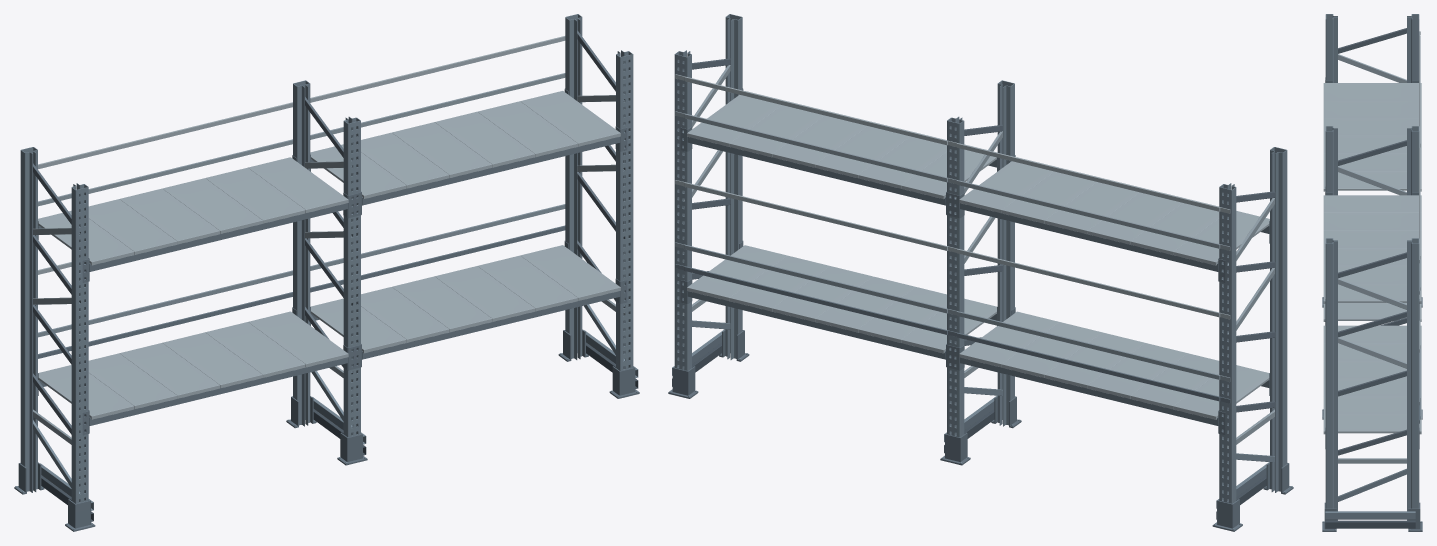
Rendered from SM_ShelfEmptyx2_White_D.fbx.
The picture shows the model from 3 angles, left to right: view 1: azimuth 30°, elevation 25°; view 2: azimuth 150°, elevation 25°; view 3: azimuth 270°, elevation 25°; orthographic projection. The views are drawn at different scales.
Parts seen in each view (by area): view 1: SM_ShelfEmptyx2_White_D; view 2: SM_ShelfEmptyx2_White_D; view 3: SM_ShelfEmptyx2_White_D.
Boxes of the visible parts, bbox=[...] form: SM_ShelfEmptyx2_White_D: bbox=[14, 14, 639, 531]; SM_ShelfEmptyx2_White_D: bbox=[668, 14, 1293, 531]; SM_ShelfEmptyx2_White_D: bbox=[1322, 14, 1422, 531].
Size of the model in its own units: 647 by 370 by 118.
